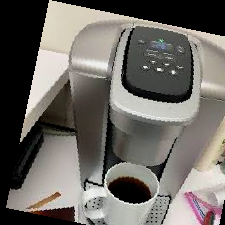10oz: (154, 68, 163, 74)
12oz: (168, 70, 177, 76)
4oz: (149, 59, 158, 65)
6oz: (163, 61, 172, 67)
8oz: (141, 65, 150, 71)
coffee_handle: (120, 108, 186, 132)
water_handle: (69, 69, 107, 81)
